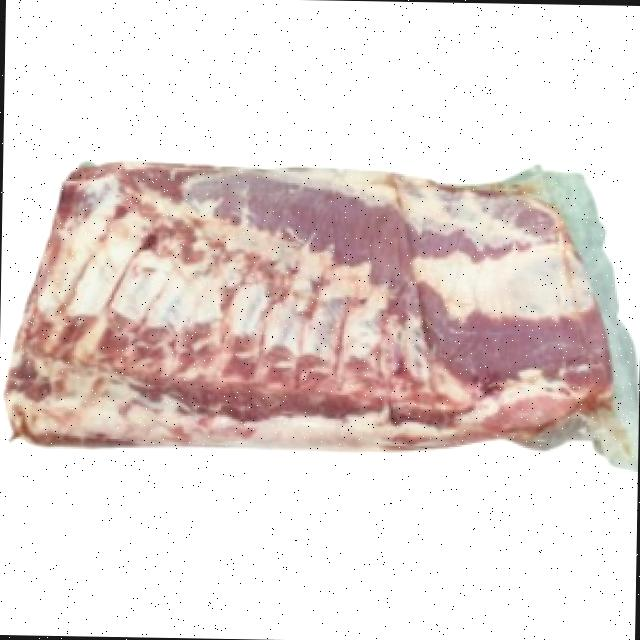meat: (16, 143, 636, 463)
